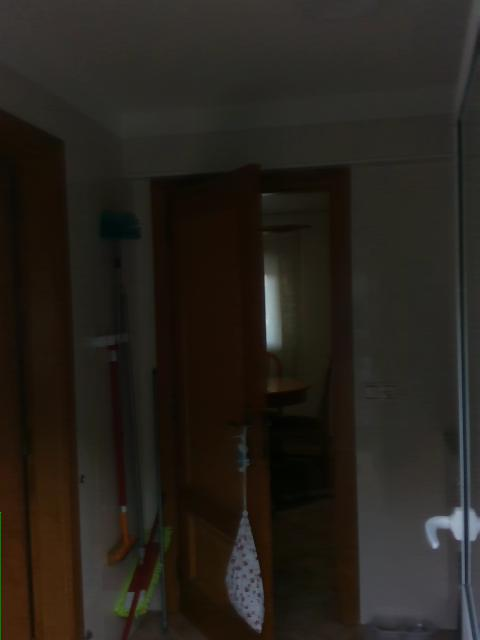semi_door: (148, 156, 359, 639)
